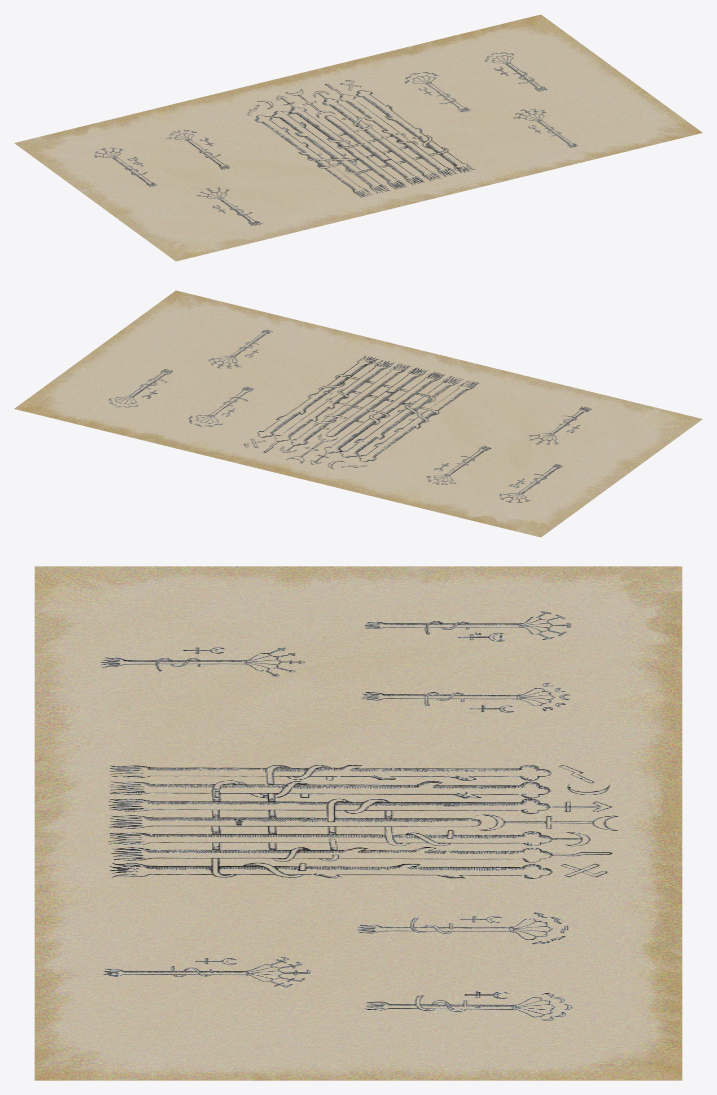
Rendered from paper_v3.FBX.
3 renders of one model, top to bottom at view 1: azimuth 30°, elevation 25°; view 2: azimuth 150°, elevation 25°; view 3: azimuth 270°, elevation 25°, orthographic. The views are drawn at different scales.
Parts seen in each view (by area): view 1: Plane001; view 2: Plane001; view 3: Plane001.
Part boxes in pixels (left/top/right/bottom): Plane001: left=14, top=14, right=702, bottom=261; Plane001: left=14, top=290, right=702, bottom=537; Plane001: left=34, top=566, right=682, bottom=1080.
Bounding box in the file's own units: 28.09 × 9.15e-16 × 14.94.
1 material, 1 textured.
